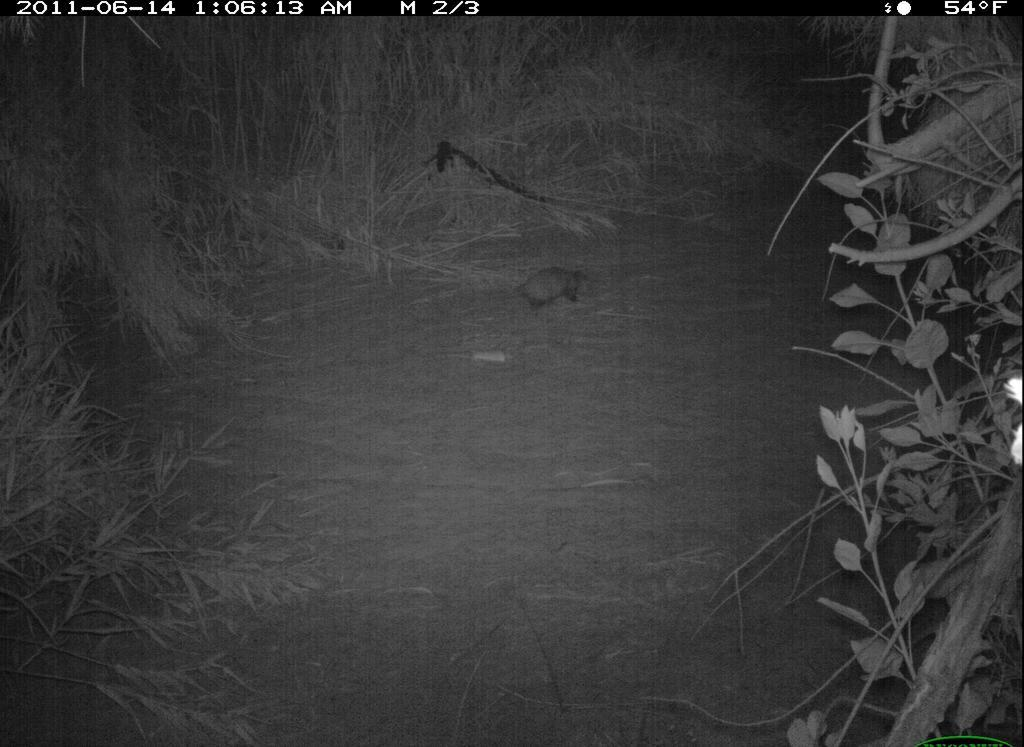opossum: (497, 262, 597, 322)
